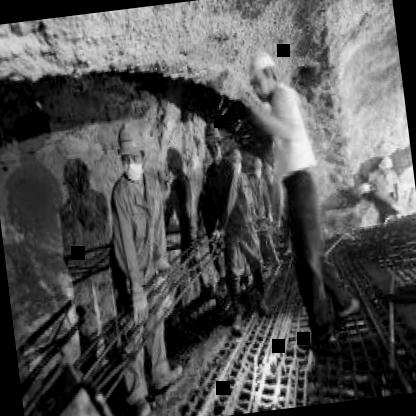helmet: (113, 116, 150, 180), (243, 44, 281, 104), (202, 119, 228, 164), (228, 144, 243, 172), (249, 150, 263, 180)
